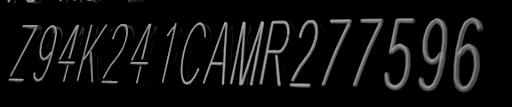letter: (288, 16, 324, 93), (382, 16, 418, 91), (451, 14, 485, 93), (418, 16, 452, 95), (351, 16, 385, 93), (258, 18, 292, 87), (230, 19, 264, 88), (179, 20, 213, 89), (6, 20, 42, 85), (320, 16, 352, 89), (100, 21, 132, 86), (76, 21, 108, 84), (201, 21, 231, 86), (129, 19, 157, 88), (32, 23, 60, 86), (56, 23, 82, 84), (160, 20, 182, 87)
